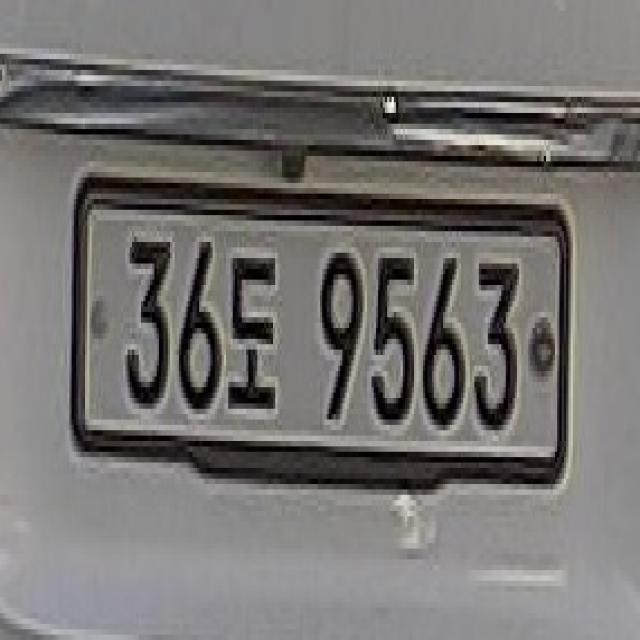3: (128, 220, 176, 420), (474, 248, 522, 436)
5: (367, 242, 416, 436)
6: (174, 236, 222, 419), (420, 253, 468, 430)
9: (316, 247, 362, 425)
do: (226, 253, 277, 419)
license_plate: (69, 172, 571, 484)
